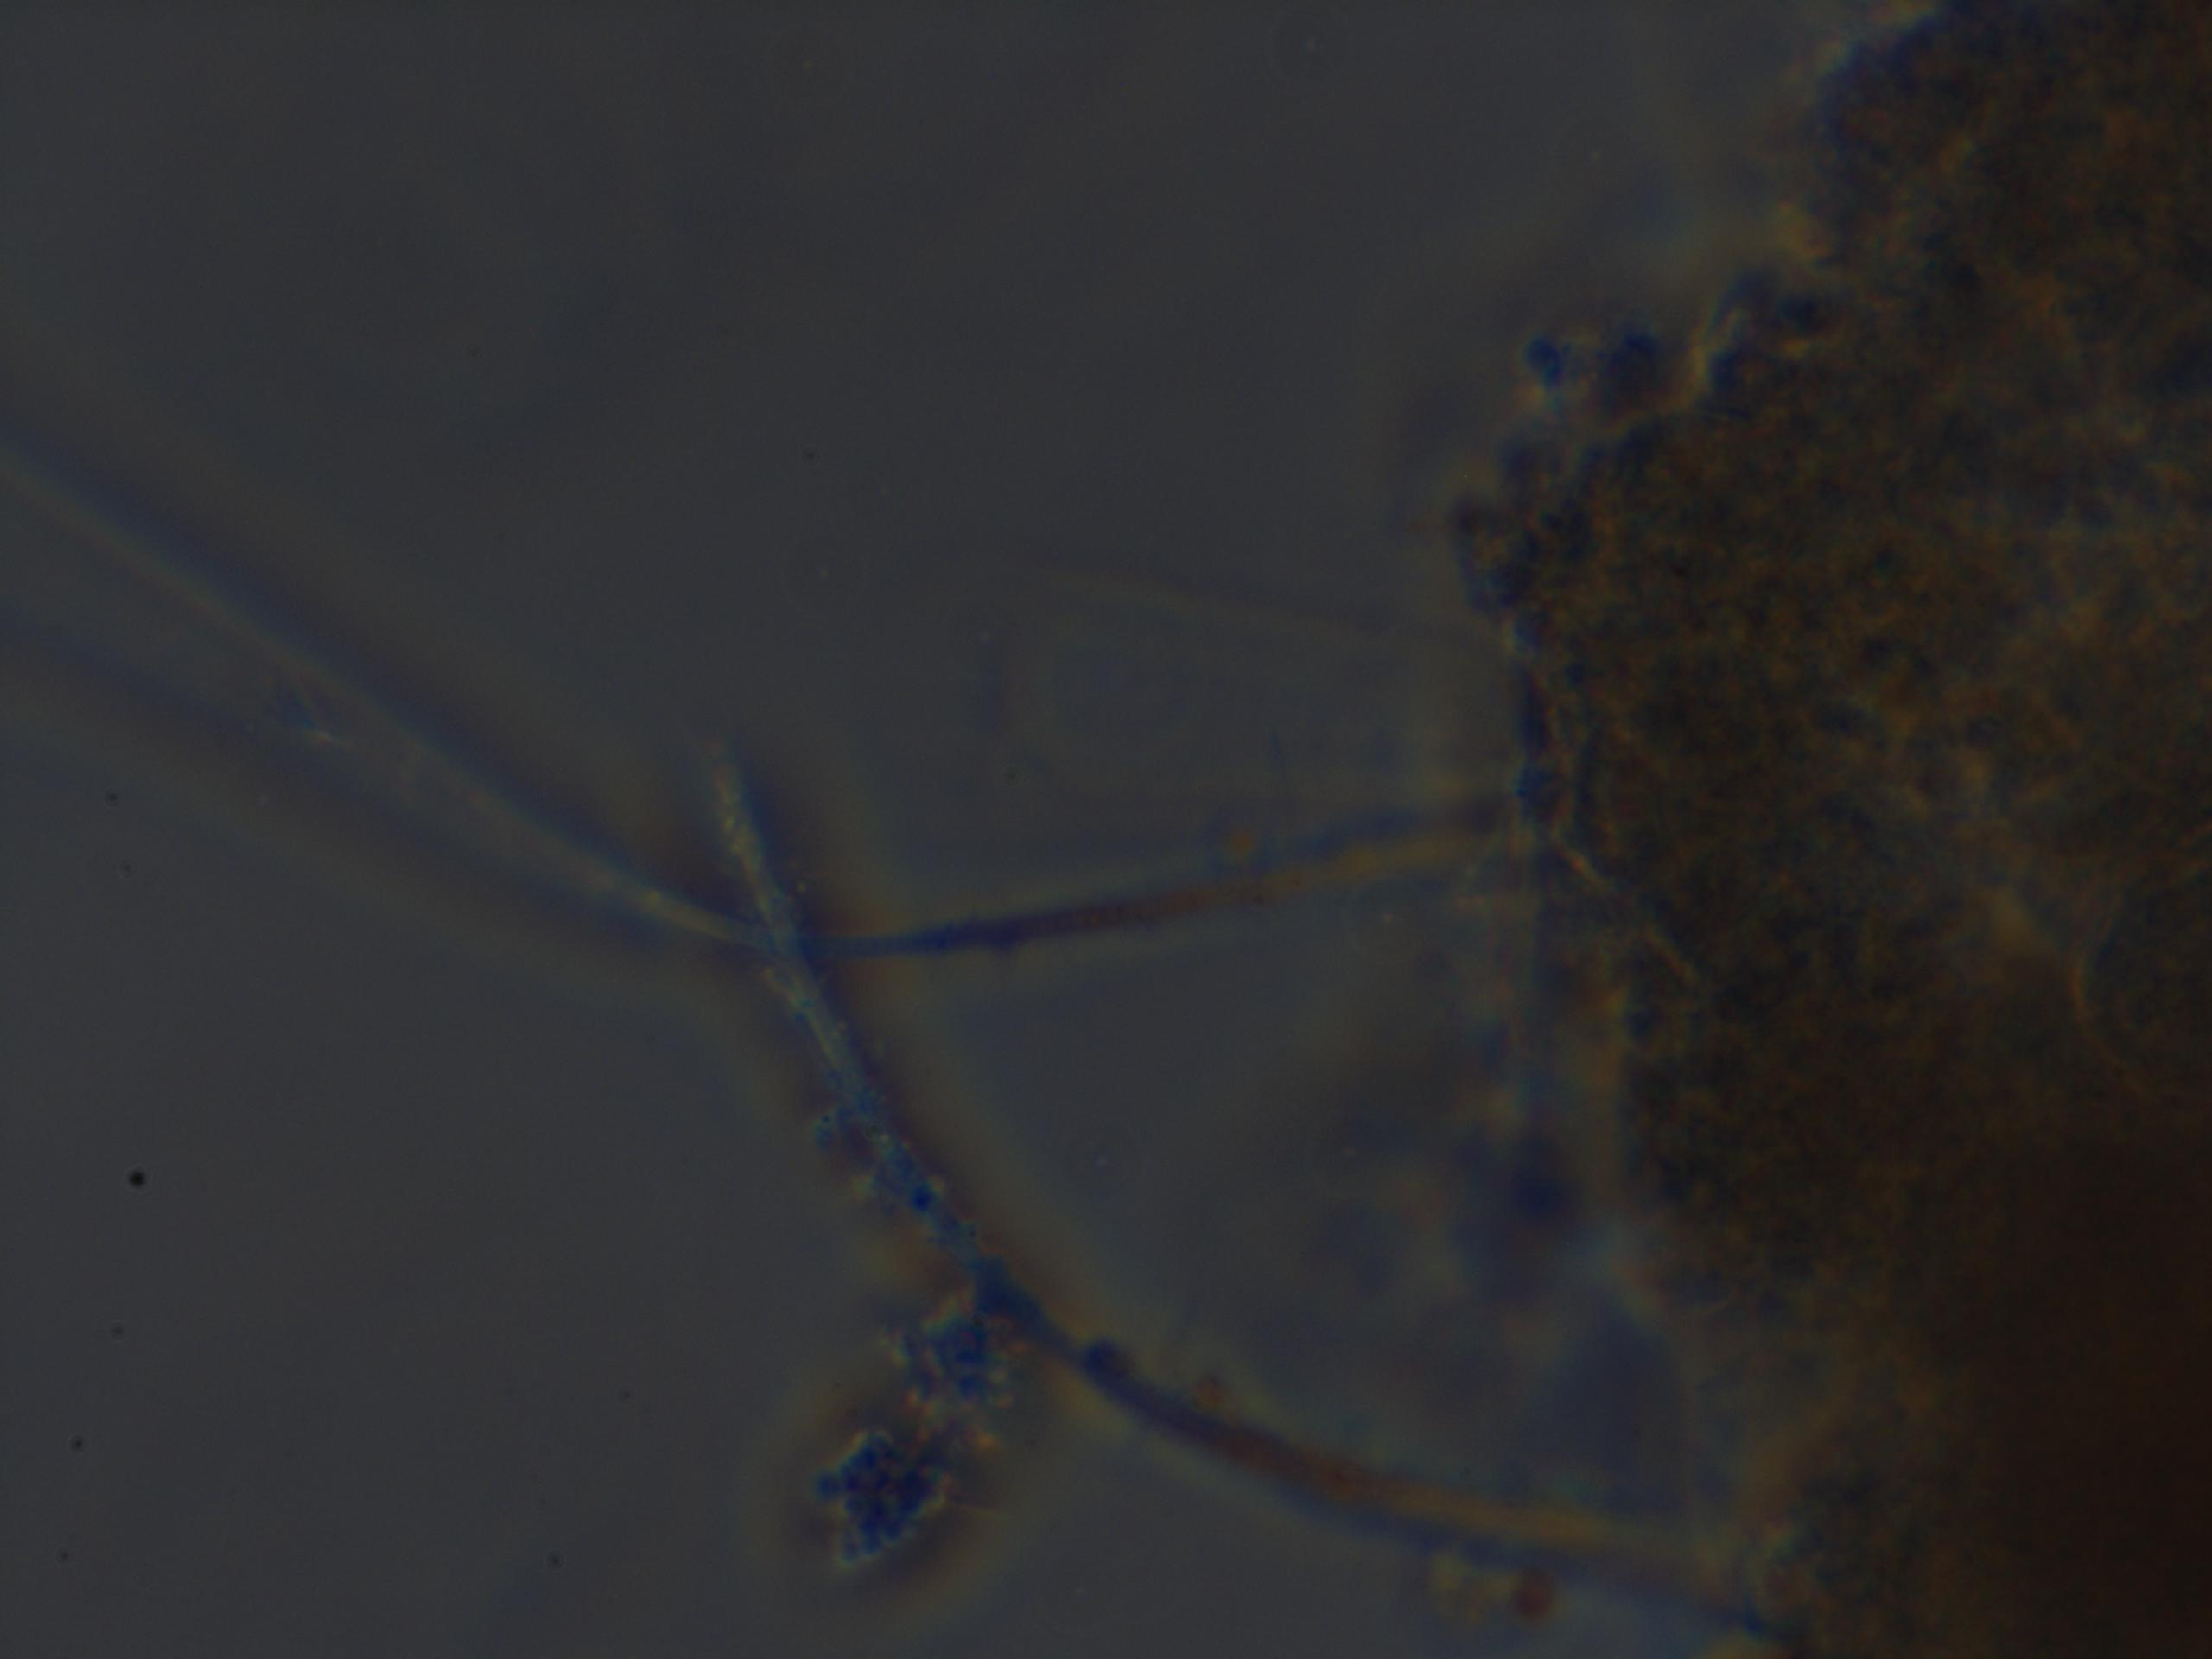filament: (702, 769, 1742, 1659), (12, 439, 1529, 999)
